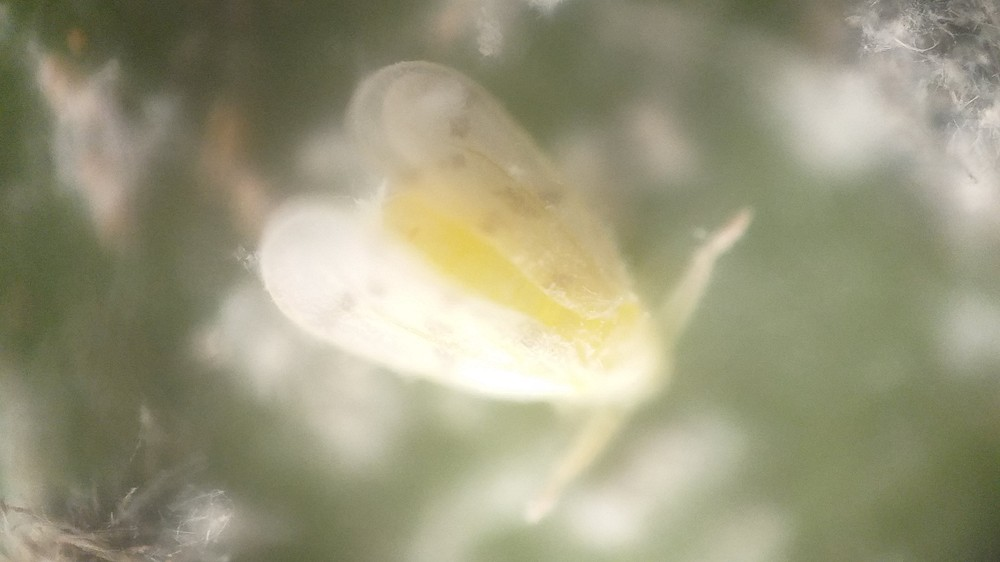Mosca Blanca: (241, 46, 777, 539)
